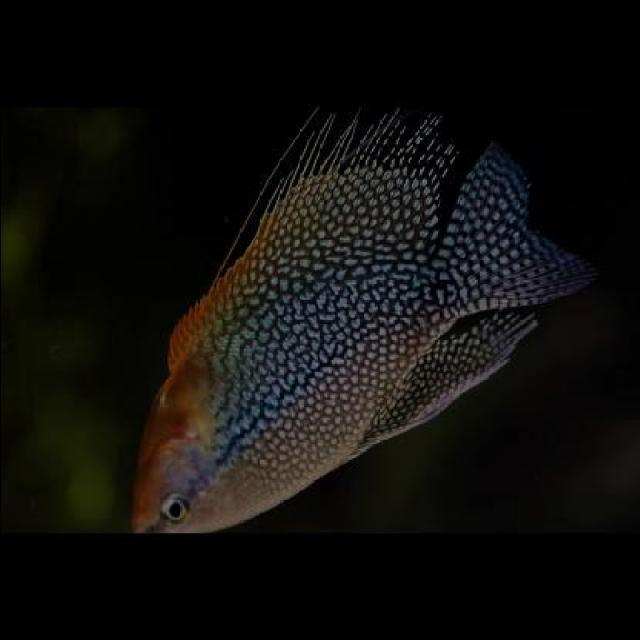Gourami: (128, 108, 598, 534)
